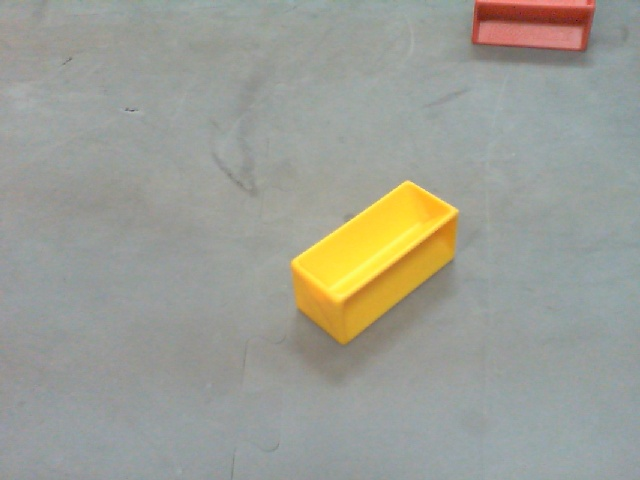RedSample: (469, 1, 596, 53)
YellowSample: (285, 181, 458, 346)
